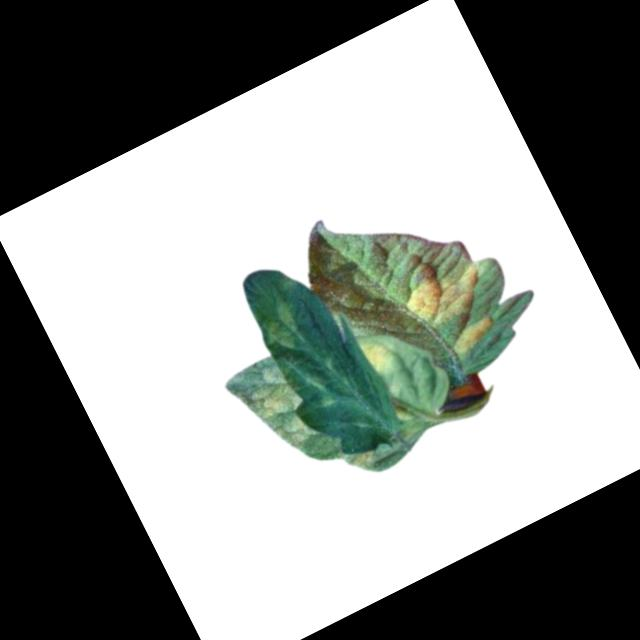Leaf_Mold: (230, 358, 323, 467), (400, 256, 495, 336), (252, 290, 313, 357), (445, 311, 504, 361), (355, 330, 403, 378), (346, 441, 383, 477)
